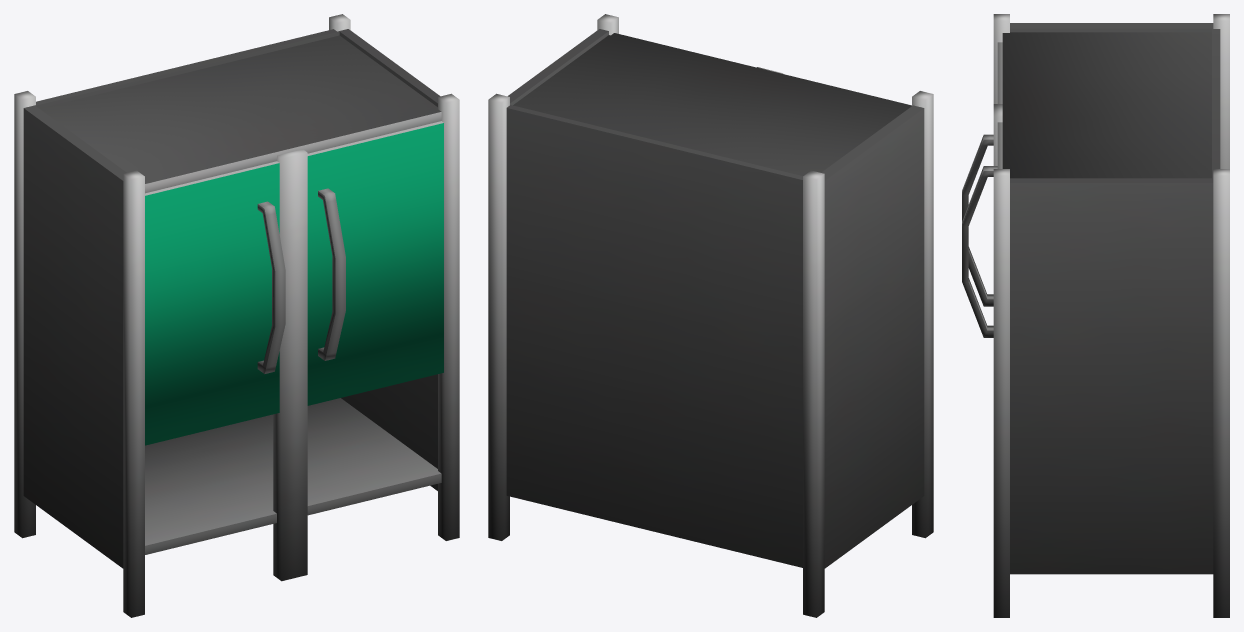
Rendered from ArmarioLab.fbx.
The picture shows the model from 3 angles, left to right: view 1: azimuth 30°, elevation 25°; view 2: azimuth 150°, elevation 25°; view 3: azimuth 270°, elevation 25°; orthographic projection.
Visible parts, largest first — view 1: estanteSimples; view 2: estanteSimples; view 3: estanteSimples.
Boxes of the visible parts, bbox=[...] form: estanteSimples: bbox=[14, 14, 459, 617]; estanteSimples: bbox=[488, 14, 933, 617]; estanteSimples: bbox=[962, 14, 1229, 617].
Bounding box in the file's own units: 97.38 × 124 × 68.12.
